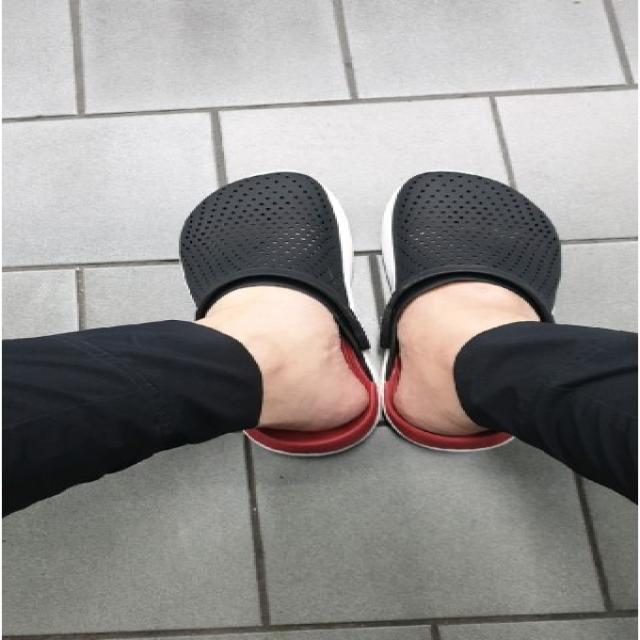no-boots: (367, 154, 576, 503), (147, 163, 371, 476)
